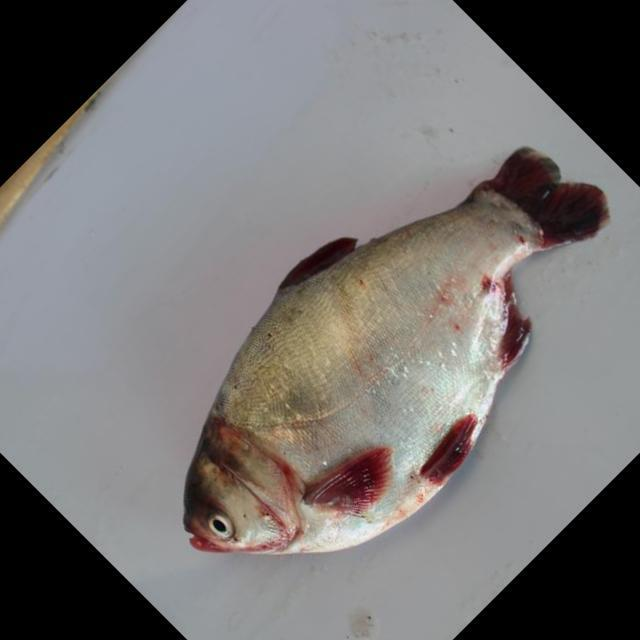SilverCarp: (167, 138, 578, 573)
